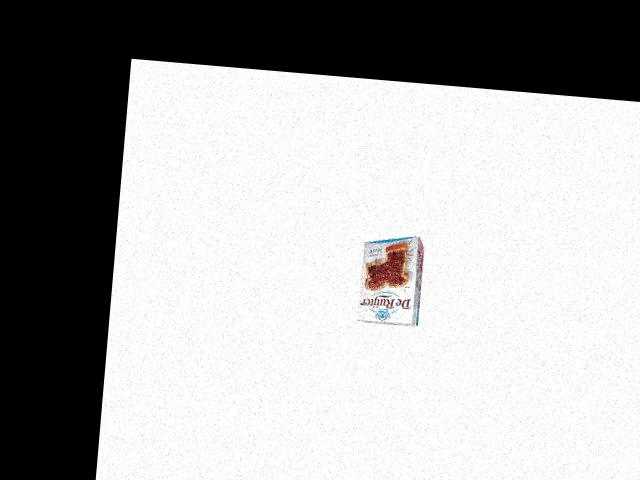chocolate: (348, 233, 433, 332)
